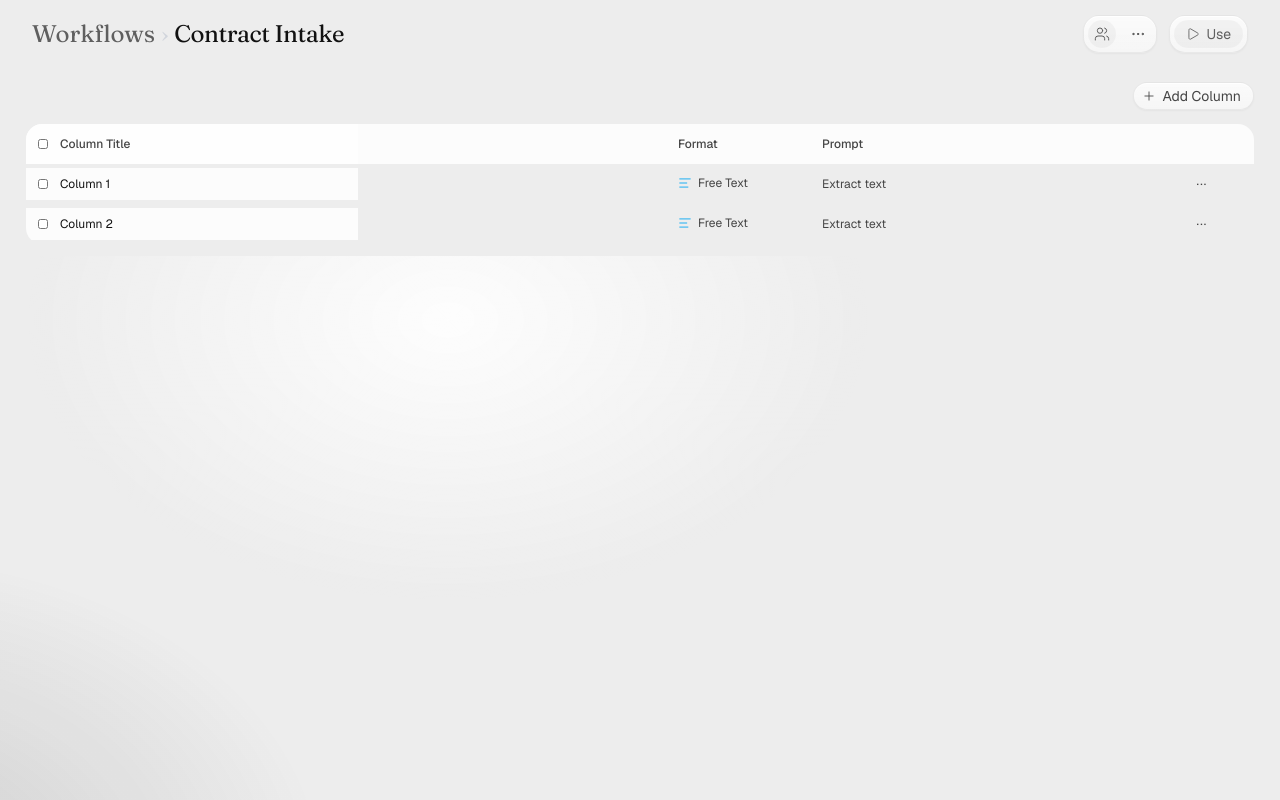
Test: WorkflowDetailPage access mutations › matches toolbar and right-click actions for 1 selected columns
The width and height of the screenshot is (1280, 800).
Click the checkbox named "Select Column 1".
click(43, 184)  # box [38, 179, 48, 189]
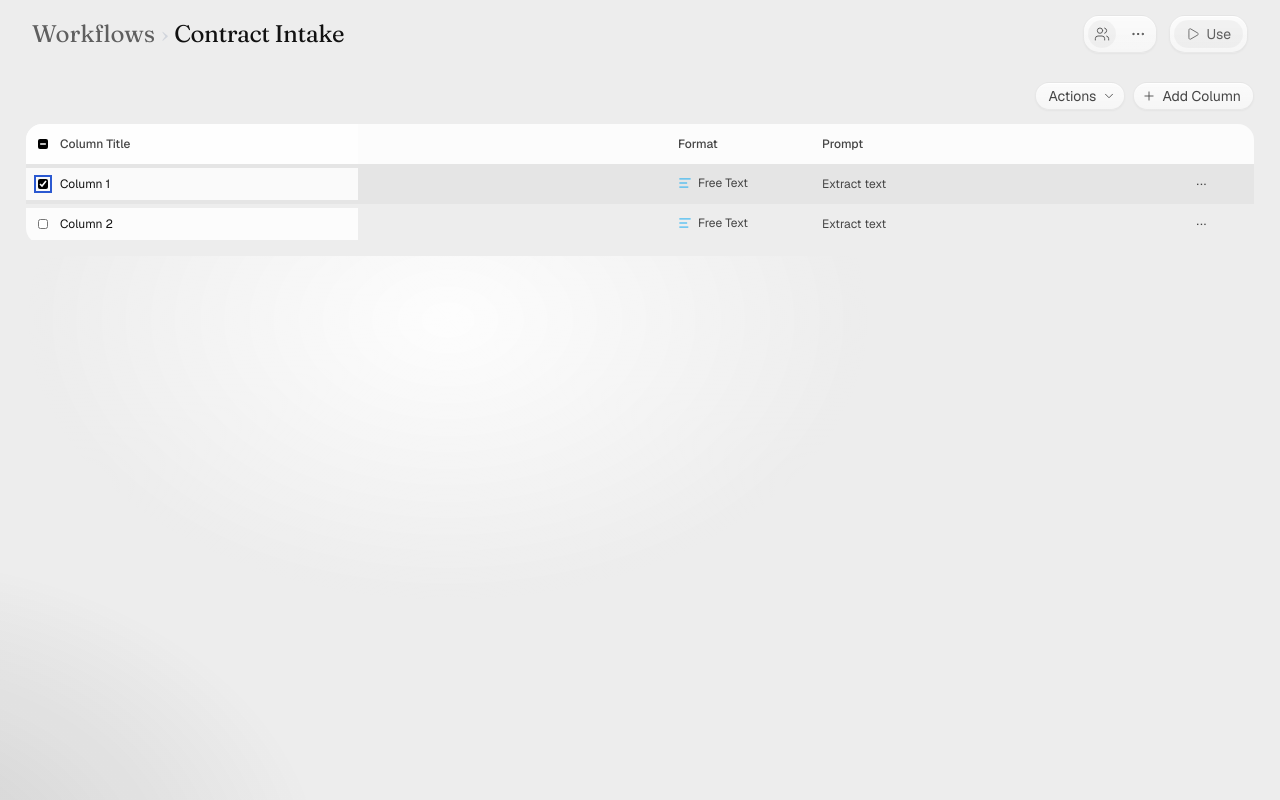
Click the button "Actions".
click(1080, 96)  # box [1035, 82, 1125, 110]
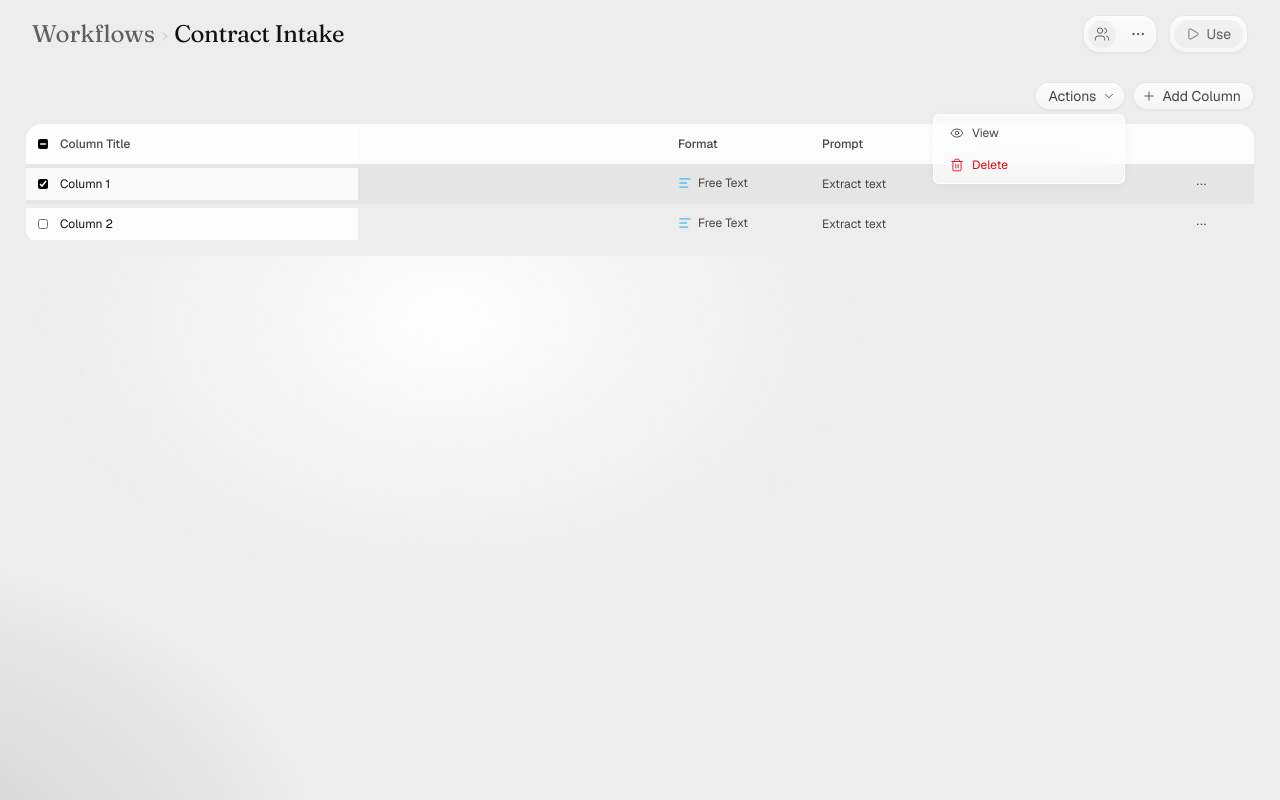
Check: the menu items read "View", "Delete", in this order, box [950, 125, 999, 141]; [950, 157, 1008, 173]
Press Escape
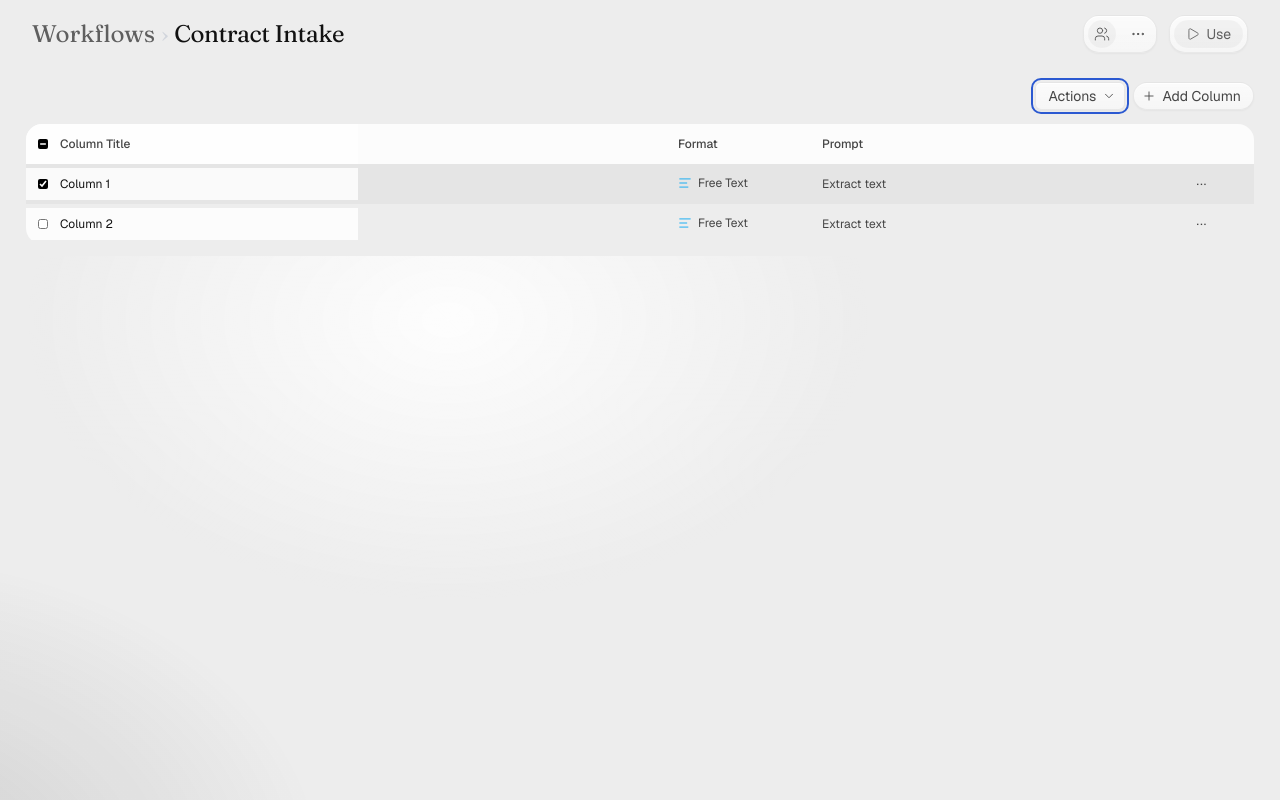
Right-click the text "Column 1".
right_click(85, 184)  # box [60, 176, 110, 192]
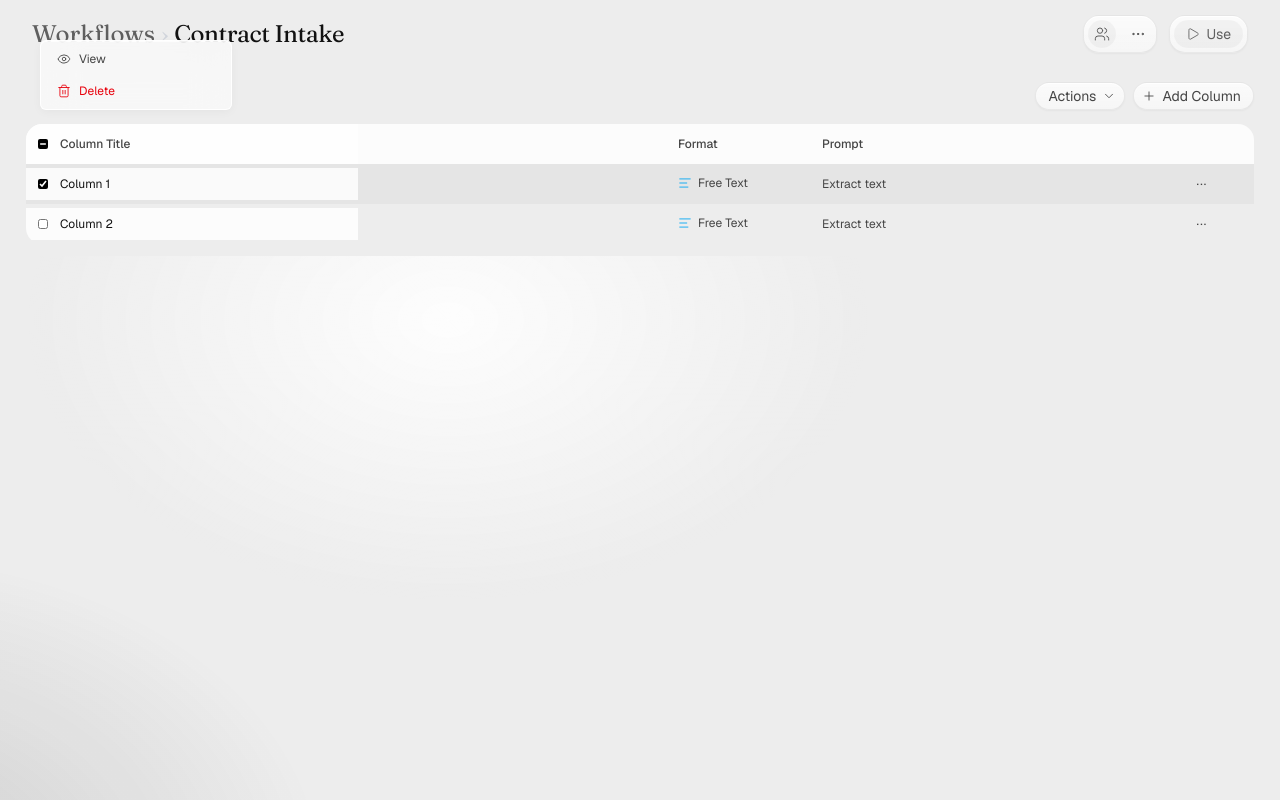
Check: the menu items read "View", "Delete", in this order, box [57, 51, 106, 67]; [57, 83, 115, 99]
